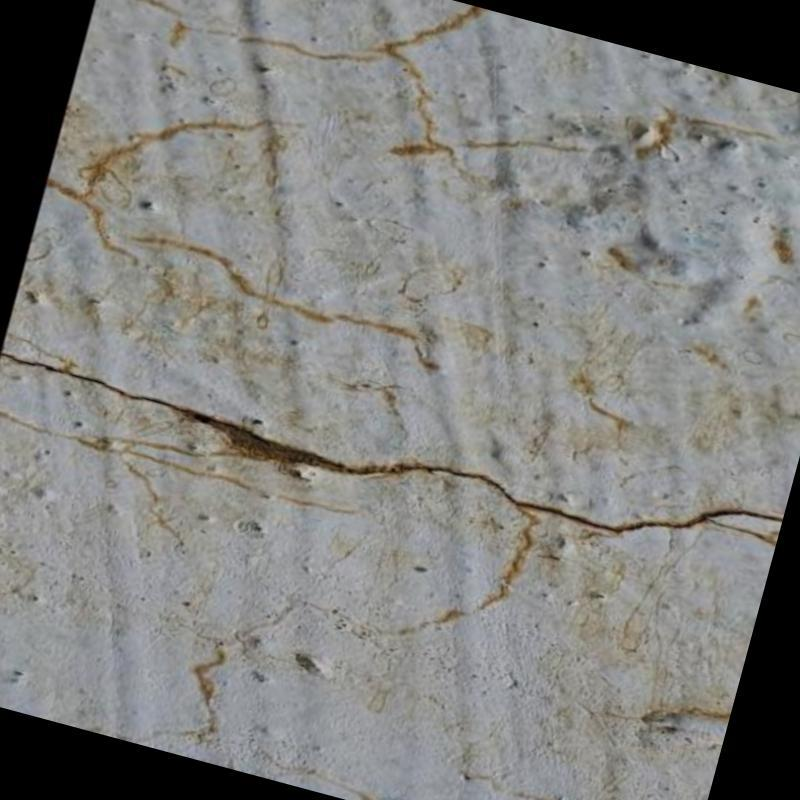pothole: (0, 345, 784, 539)
